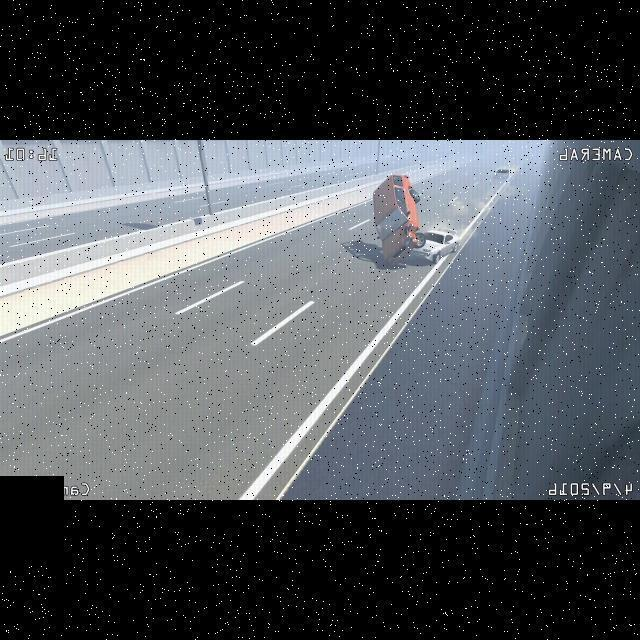multiple_accident: (352, 145, 507, 283)
